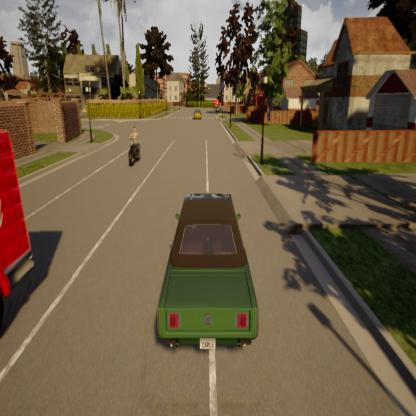Cars: (150, 188, 264, 367), (0, 118, 41, 341), (192, 108, 202, 121)
